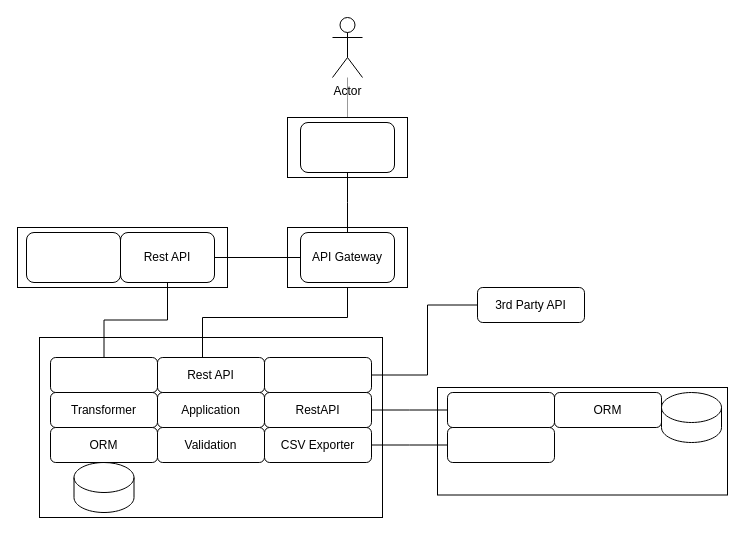
The diagram is 745 pixels wide and 535 high, and some of its shapes have lost their labels. The shapes that lost their labels are listed below. From the top down, each one's box as (x1, y1, x2, y2) in pixels, then its label:
(300, 122, 394, 172): Frontend
(26, 232, 120, 282): Calculator
(50, 356, 158, 392): Calculator Service
(264, 356, 372, 392): 3rd Party Service
(446, 392, 554, 428): Import Service
(446, 426, 554, 462): CSV Importer
